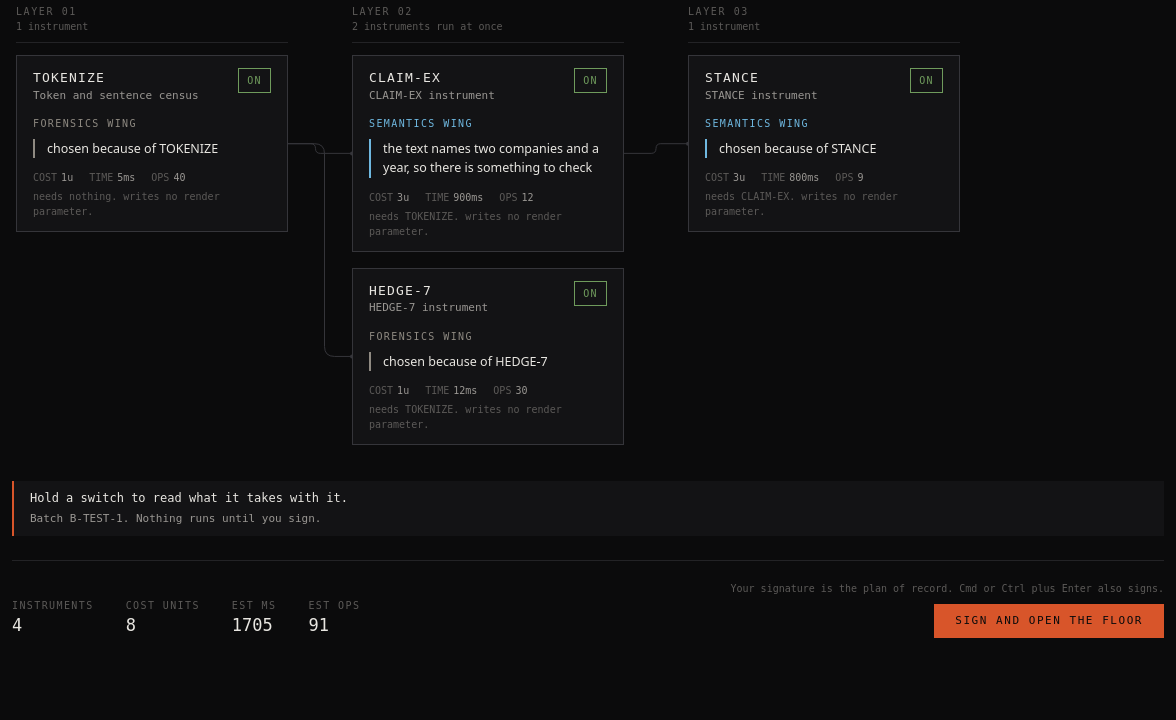
Scenario: WorkOrderDag › names the dependents a switch would take with it before it is thrown
Hover over the switch named "TOKENIZE": (255, 80) [238,68,271,93]
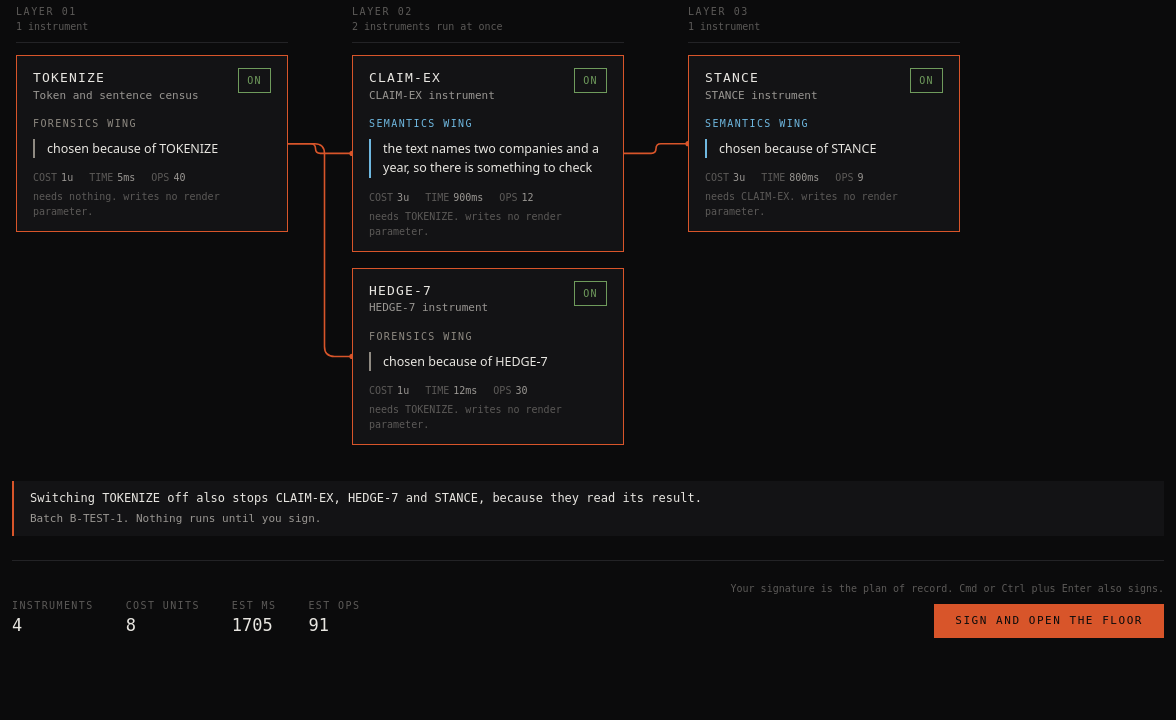
Now the text with test id "consequence" shows "CLAIM-EX", box [30,491,702,505]
Now the text with test id "consequence" shows "HEDGE-7", box [30,491,702,505]
Now the text with test id "consequence" shows "STANCE", box [30,491,702,505]
